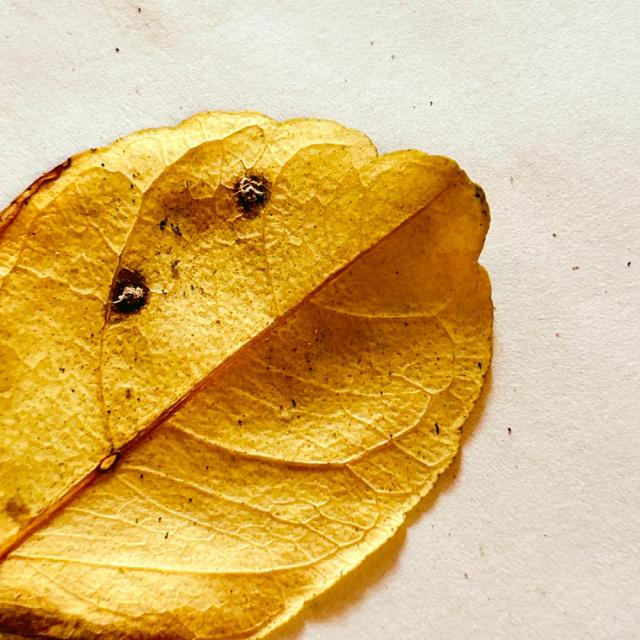DryLeaf_Lemon: (0, 113, 493, 637)
